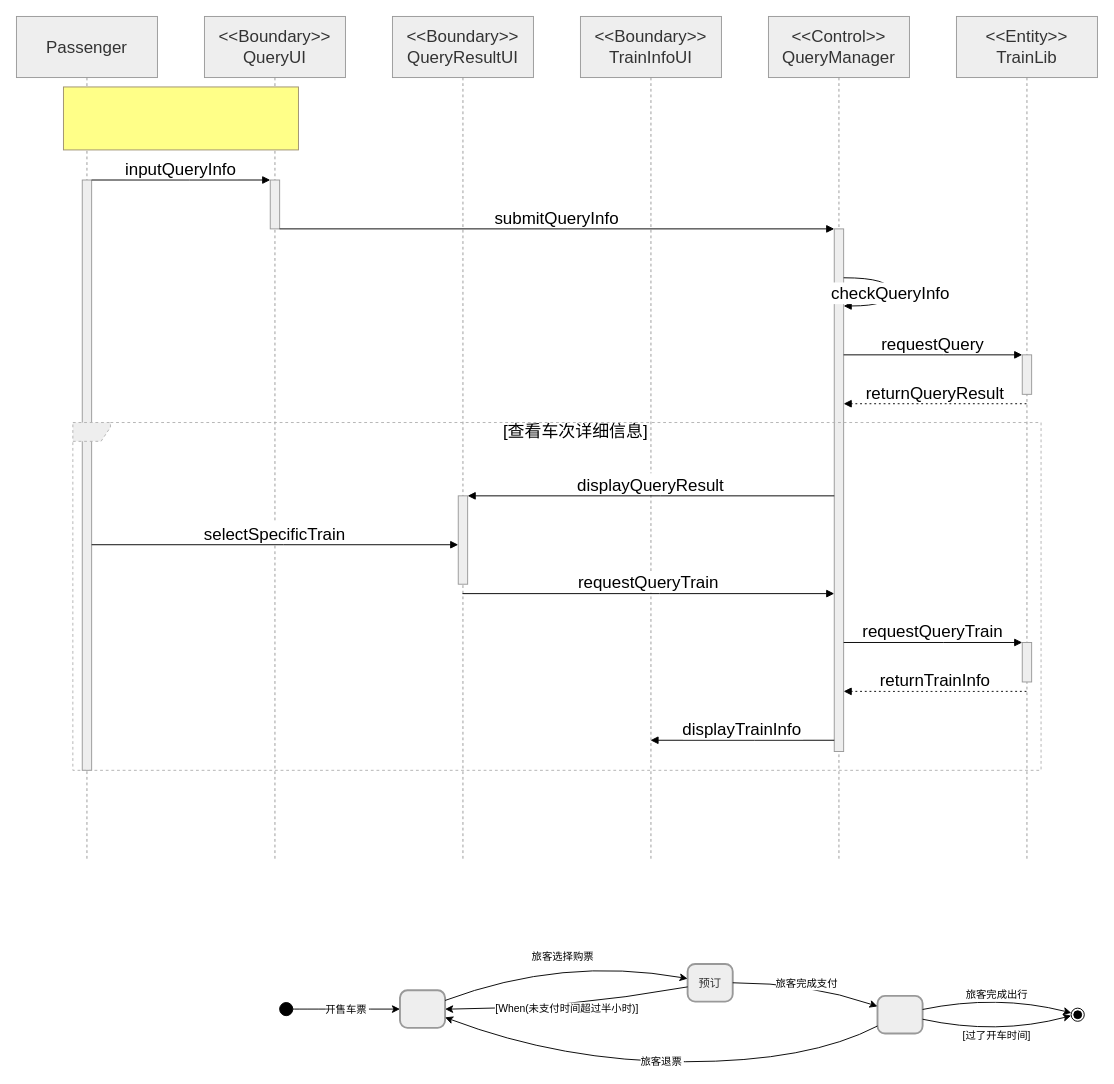
Image size: 1114x1084. Some labels were removed from this diagram. The shapes that lost their labels are listed below. From the top down, each one's box as (x1, y1, x2, y2) in pixels, then its label:
(63, 86, 298, 150): 黄若麟 20242501624
(72, 422, 1041, 770): loop
(399, 989, 446, 1028): 待售
(876, 995, 923, 1034): 售出
